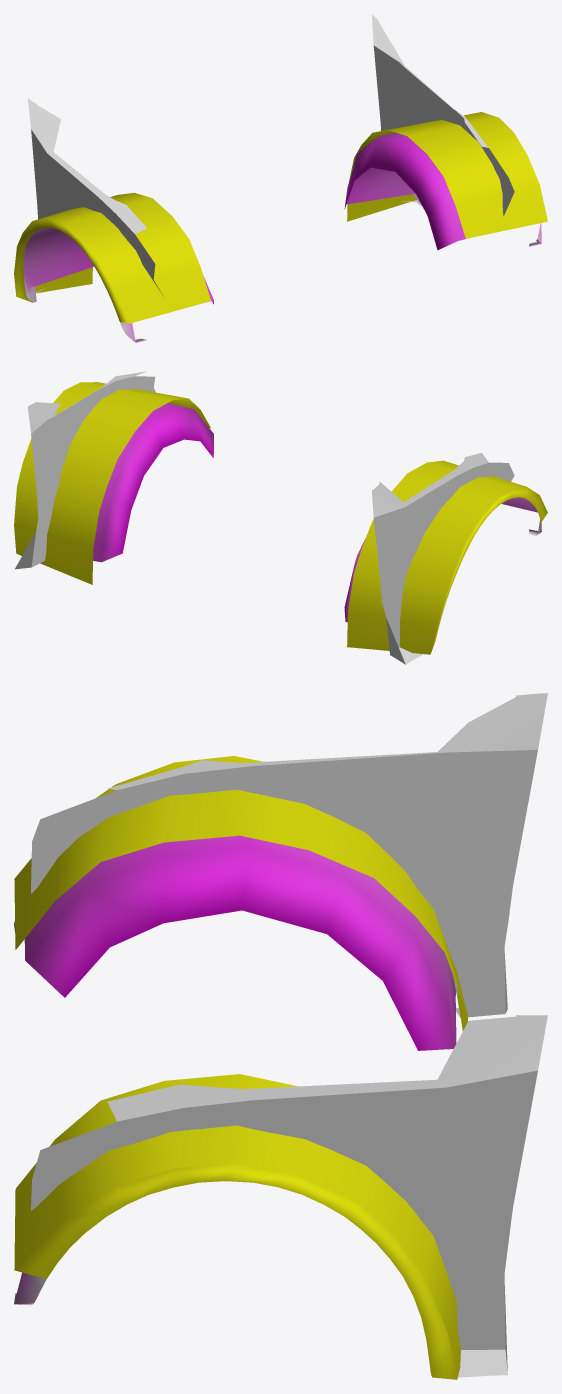
The model's file is Car_Mini_CountrymanJCW_2017_FendersChassisF_SetB.fbx.
3 views of the same model, one above another, from view 1: azimuth 30°, elevation 25°; view 2: azimuth 150°, elevation 25°; view 3: azimuth 270°, elevation 25° (orthographic). The views are drawn at different scales.
Visible parts, largest first — view 1: FendersChassisF 6; view 2: FendersChassisF 6; view 3: FendersChassisF 6.
Boxes of the visible parts, x1,y1,x2,y2 form: FendersChassisF 6: [14, 14, 547, 342]; FendersChassisF 6: [14, 371, 547, 664]; FendersChassisF 6: [14, 693, 547, 1379].
Size of the model in its own units: 1.9 by 0.7584 by 1.05.
